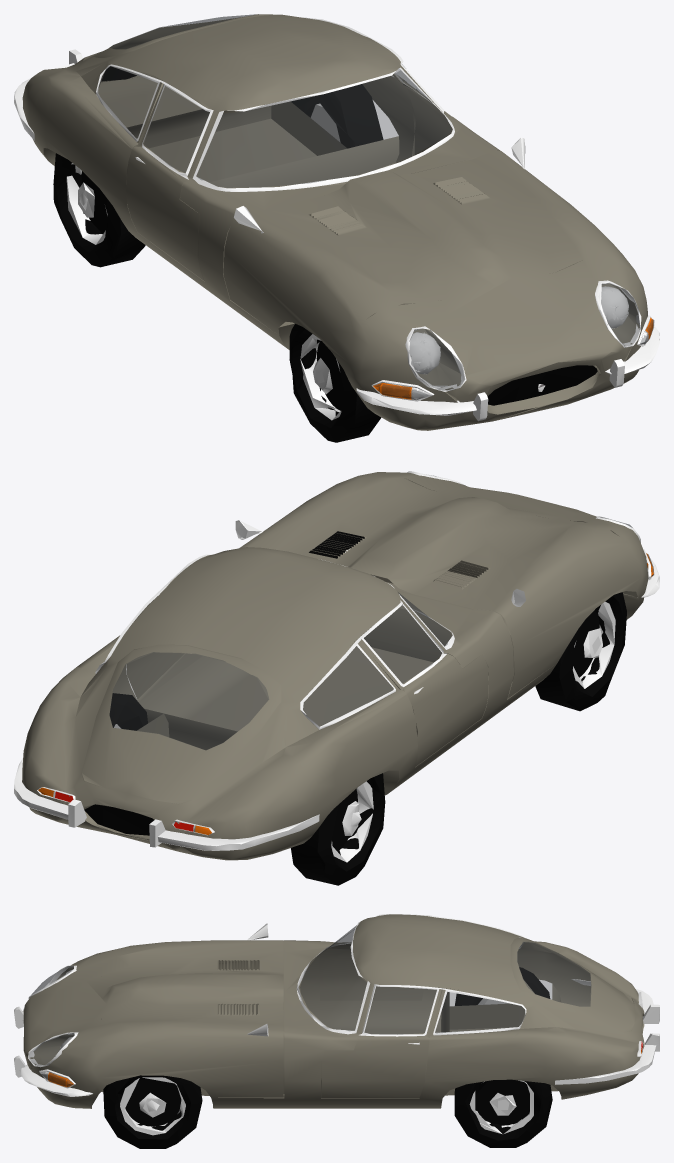
The model's file is jaguar-e-type_lod.glb.
3 views of the same model, one above another, from view 1: azimuth 30°, elevation 25°; view 2: azimuth 150°, elevation 25°; view 3: azimuth 270°, elevation 25° (orthographic). The views are drawn at different scales.
Visible parts, largest first — view 1: body, wheel_1, wheel_3, wheel_2; view 2: body, wheel_3, wheel_1, wheel_2, wheel_0; view 3: body, wheel_0, wheel_2, wheel_3.
Boxes of the visible parts, box(x1,y1,x2,y2) form: body: box(14, 14, 659, 430); wheel_1: box(289, 324, 381, 442); wheel_3: box(53, 153, 145, 267); wheel_2: box(291, 84, 383, 148); body: box(14, 471, 659, 860); wheel_3: box(291, 773, 385, 885); wheel_1: box(535, 592, 626, 711); wheel_2: box(109, 693, 147, 730); wheel_0: box(309, 531, 364, 558); body: box(14, 914, 659, 1108); wheel_0: box(103, 1075, 202, 1148); wheel_2: box(454, 1079, 552, 1147); wheel_3: box(455, 967, 550, 1005).
Size of the model in its own units: 1.71 by 1.25 by 4.44.
Materials: 3 (2 with a texture image).
